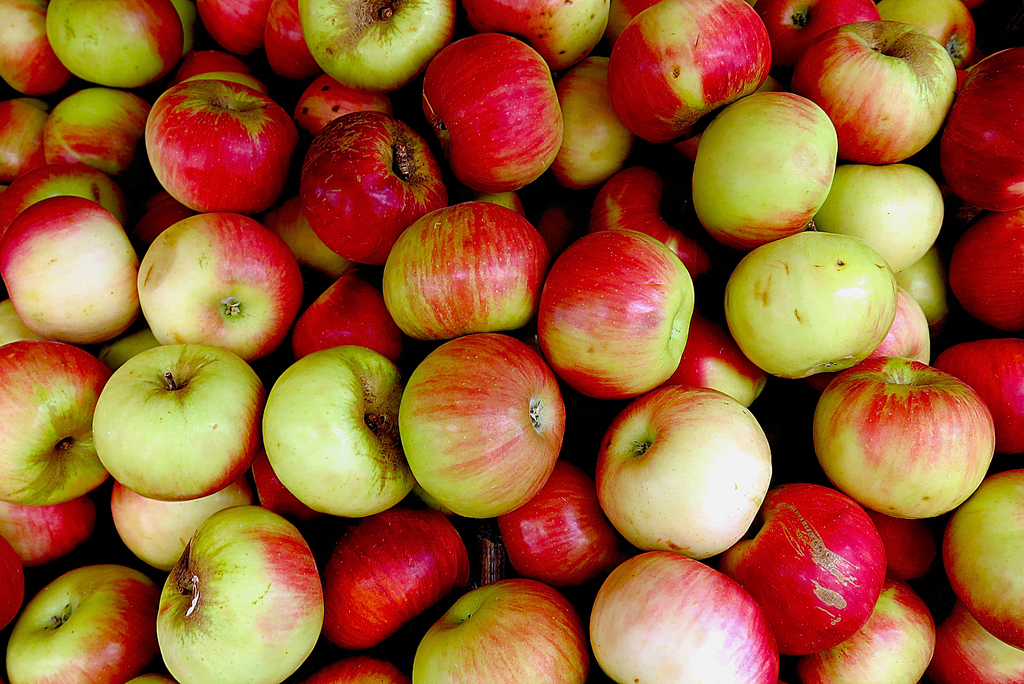Apple: (0, 0, 1023, 683), (823, 358, 989, 530)
